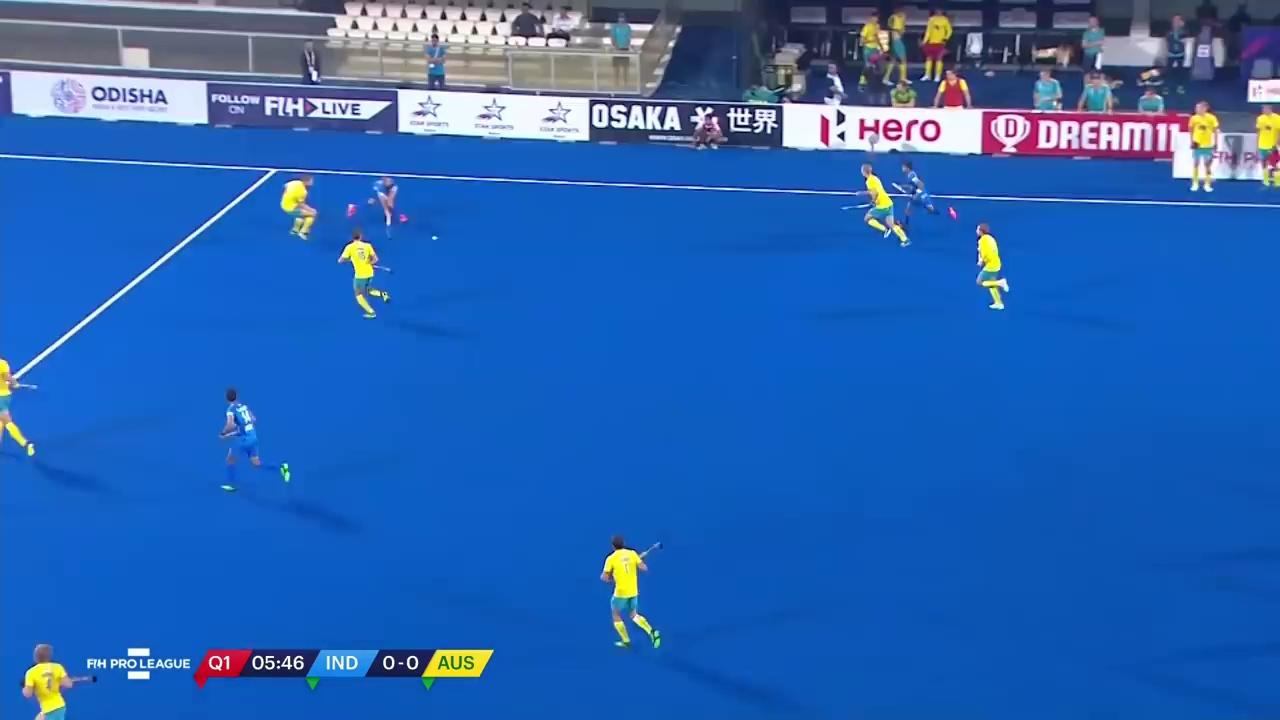ball: (430, 232, 439, 242)
